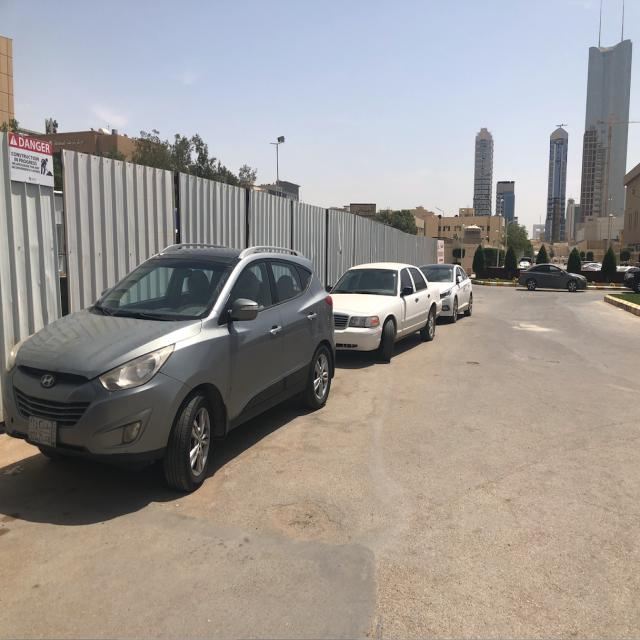license_plate: (29, 414, 56, 446)
